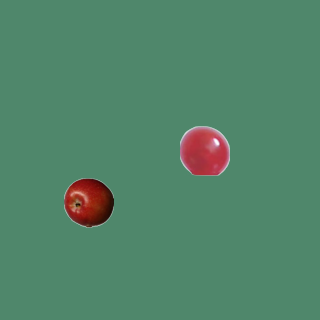Apple Braeburn: (63, 177, 113, 227)
Redcurrant: (179, 125, 229, 175)
